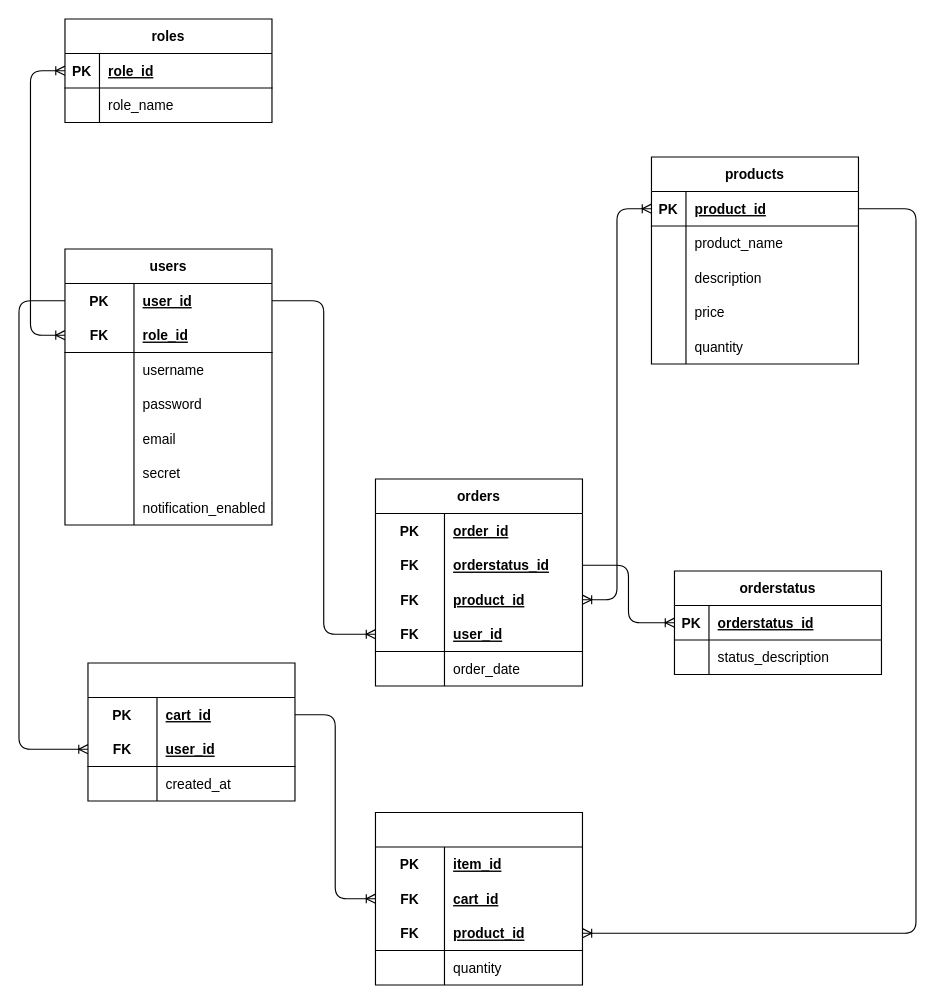
Some shapes in this 935 by 1004 pixel diagram are drawn without their labels. Each missing label, with the box of its shape:
cart_items: (374, 811, 582, 985)
carts: (87, 662, 295, 801)
